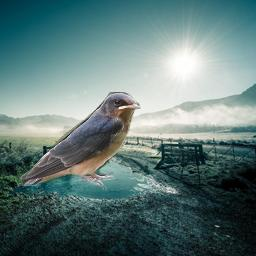Swallow: (18, 92, 141, 191)
